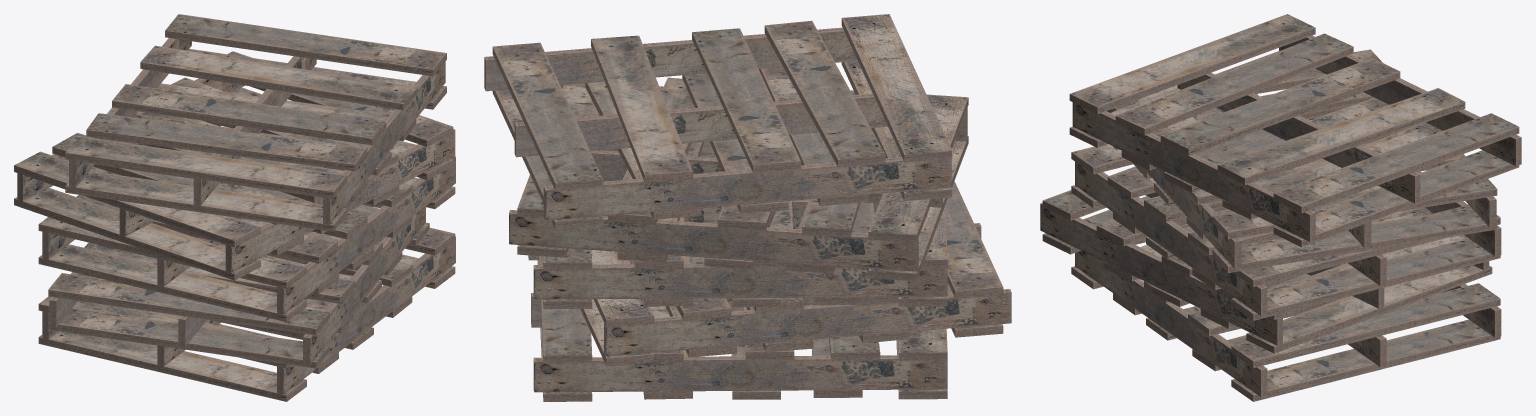
File: Palet_v1_set (8).glb
The picture shows the model from 3 angles, left to right: view 1: azimuth 30°, elevation 25°; view 2: azimuth 150°, elevation 25°; view 3: azimuth 270°, elevation 25°; orthographic projection. The views are drawn at different scales.
Parts seen in each view (by area): view 1: Palet_v1_set (8); view 2: Palet_v1_set (8); view 3: Palet_v1_set (8).
Boxes of the visible parts, x1=… form: Palet_v1_set (8): x1=14, y1=14, x2=455, y2=401; Palet_v1_set (8): x1=484, y1=14, x2=1011, y2=401; Palet_v1_set (8): x1=1040, y1=14, x2=1521, y2=401.
Bounding box in the file's own units: 2.41 × 1.08 × 2.33.
Materials: 1 (1 with a texture image).
